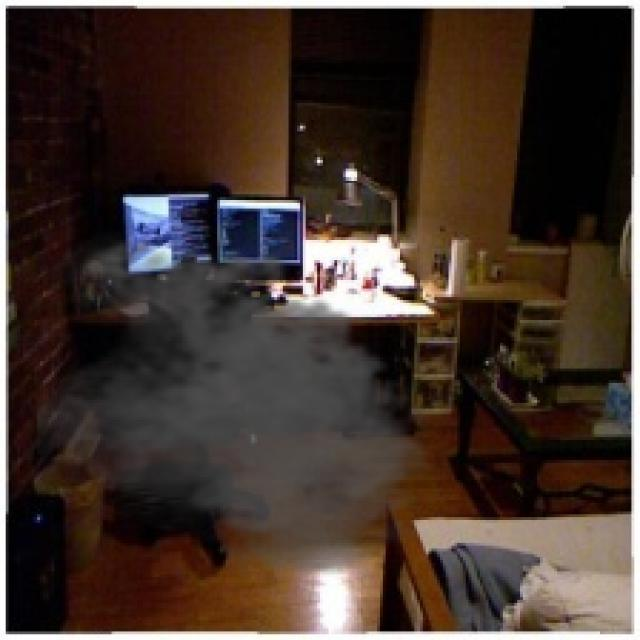Smoke: (37, 228, 446, 583)
